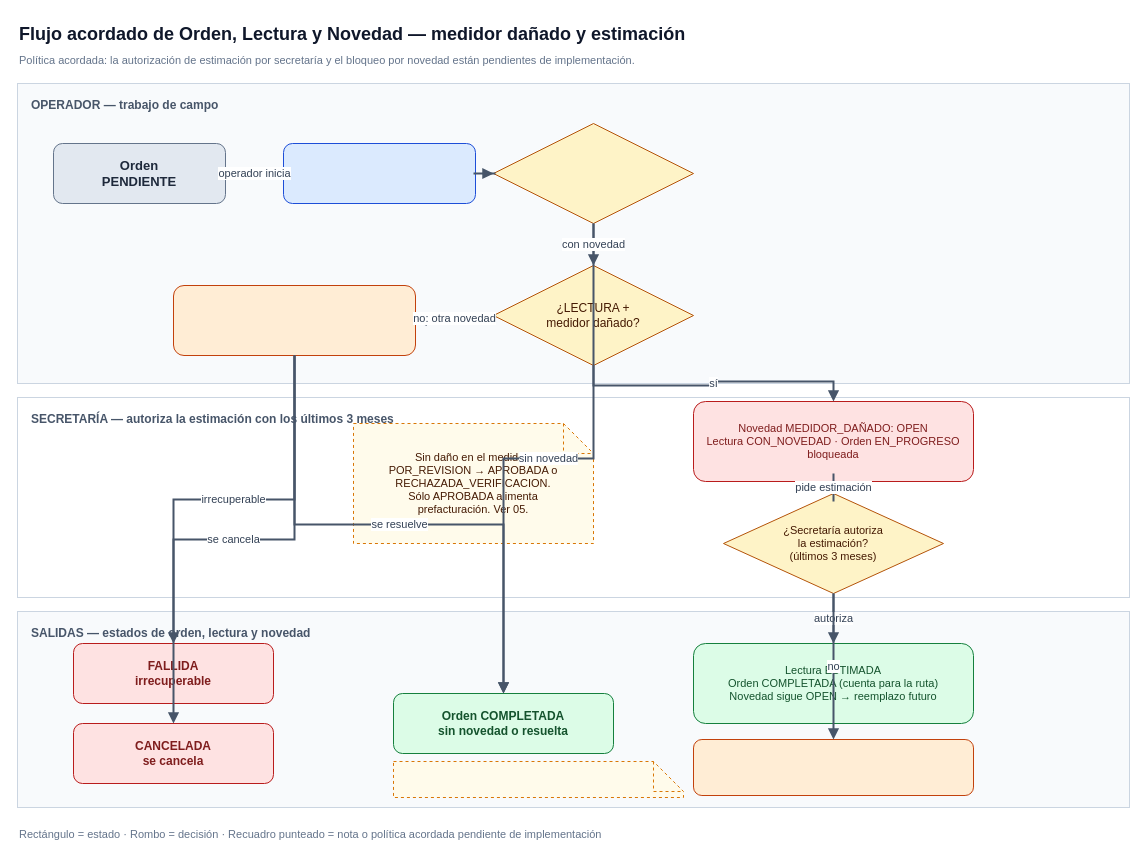
Image size: 1147x868. Some labels were removed from this diagram. Here are the shapes that lost their labels. From the top down, the centre of each, then its label:
(x=379, y=173): Orden EN_PROGRESO
(x=593, y=173): ¿Hay novedad?
(x=294, y=320): EN_PROGRESO bloqueada tieneNovedadActiva = true novedad NO lectura
(x=538, y=779): Orden COMPLETADA ≠ Lectura APROBADA. ESTIMADA ≠ APROBADA.
(x=833, y=767): Orden EN_PROGRESO bloqueada sin autorización o no estimable
